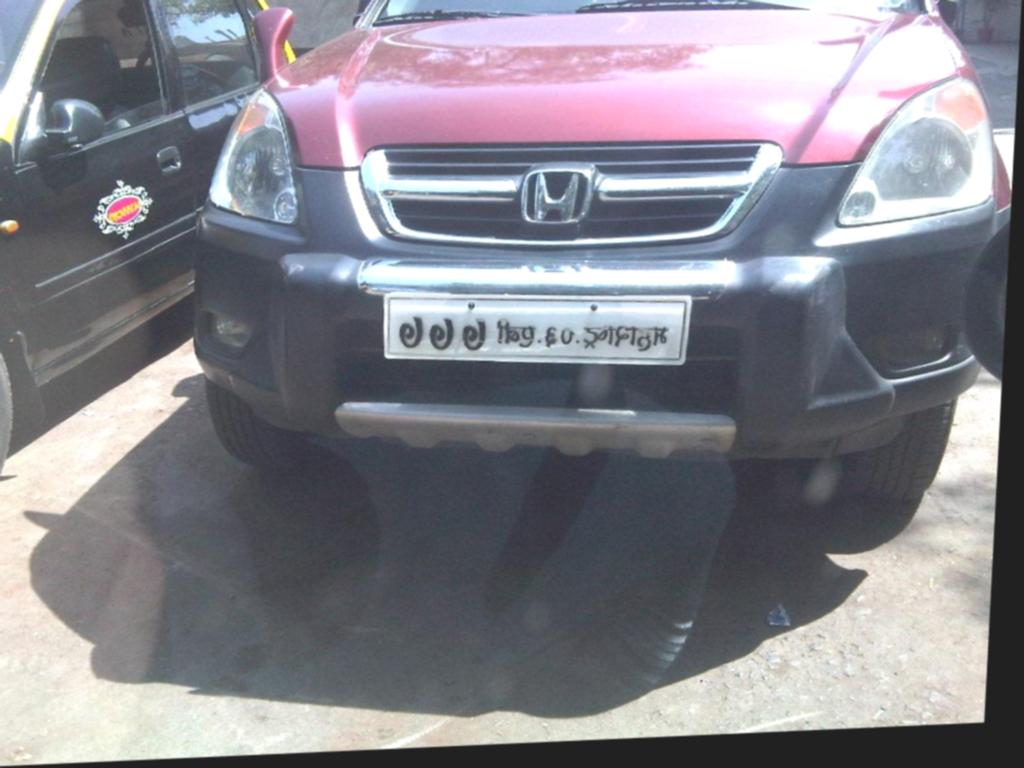License_Plate: (358, 275, 713, 389)
